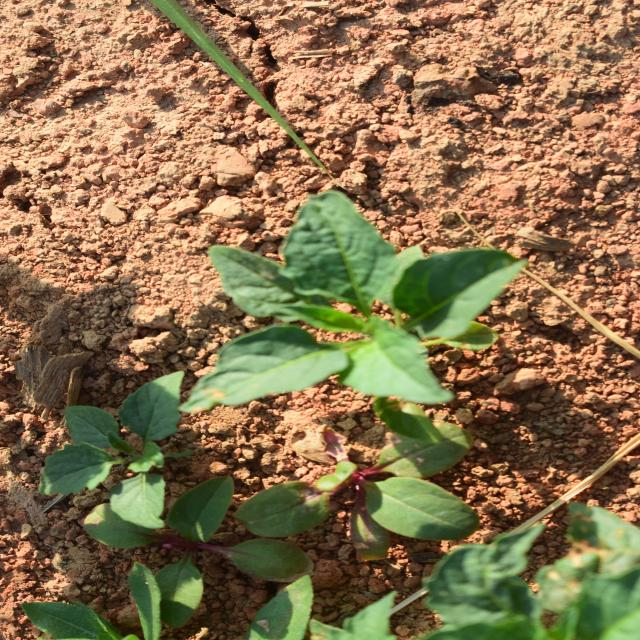Black_nightshade: (260, 207, 442, 535), (129, 23, 300, 205)
